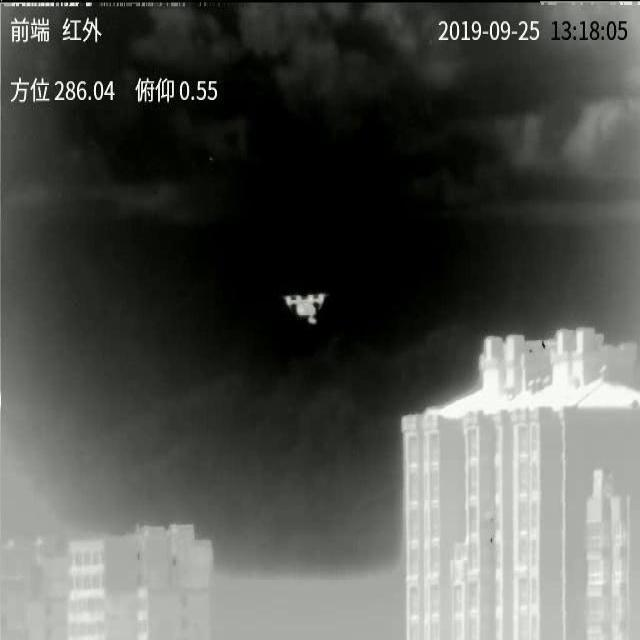drone: (284, 293, 325, 324)
